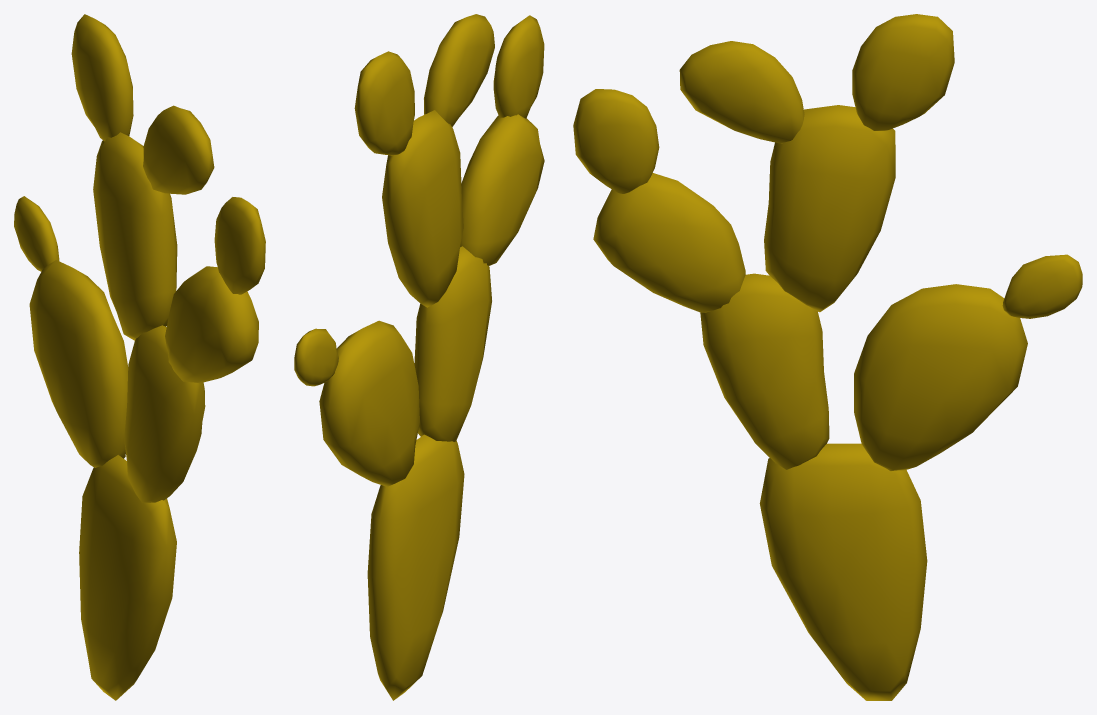
Rendered from Cactus_2.fbx.
3 renders of one model, left to right at view 1: azimuth 30°, elevation 25°; view 2: azimuth 150°, elevation 25°; view 3: azimuth 270°, elevation 25°, orthographic. The views are drawn at different scales.
Visible parts, largest first — view 1: Cactus_4; view 2: Cactus_4; view 3: Cactus_4.
Boxes of the visible parts, x1=… form: Cactus_4: x1=14, y1=14, x2=265, y2=700; Cactus_4: x1=294, y1=14, x2=544, y2=700; Cactus_4: x1=573, y1=14, x2=1082, y2=700.
Size of the model in its own units: 11 by 137 by 91.9.
